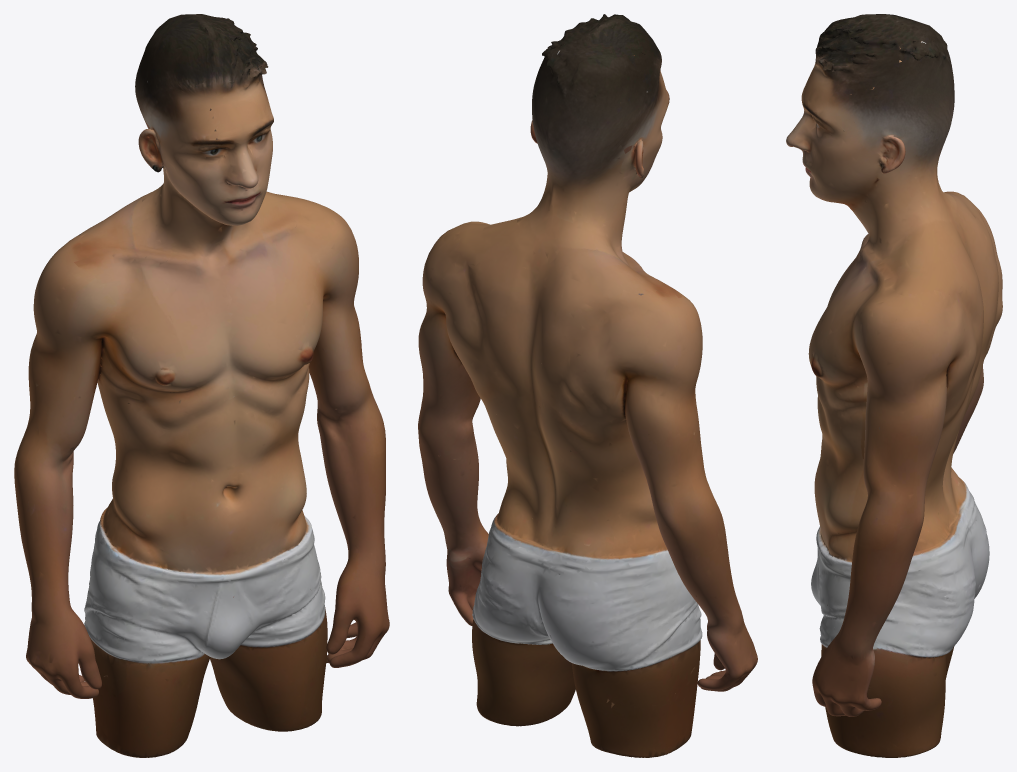
File: MENU_3D BOY.fbx
3 renders of one model, left to right at view 1: azimuth 30°, elevation 25°; view 2: azimuth 150°, elevation 25°; view 3: azimuth 270°, elevation 25°, orthographic. The views are drawn at different scales.
Parts seen in each view (by area): view 1: Boy_main_menu; view 2: Boy_main_menu; view 3: Boy_main_menu.
Part boxes in pixels (left/top/right/bottom): Boy_main_menu: left=14, top=14, right=389, bottom=757; Boy_main_menu: left=418, top=14, right=757, bottom=757; Boy_main_menu: left=786, top=14, right=1002, bottom=757.
Bounding box in the file's own units: 506 × 1000 × 285.
1 material, 1 textured.
